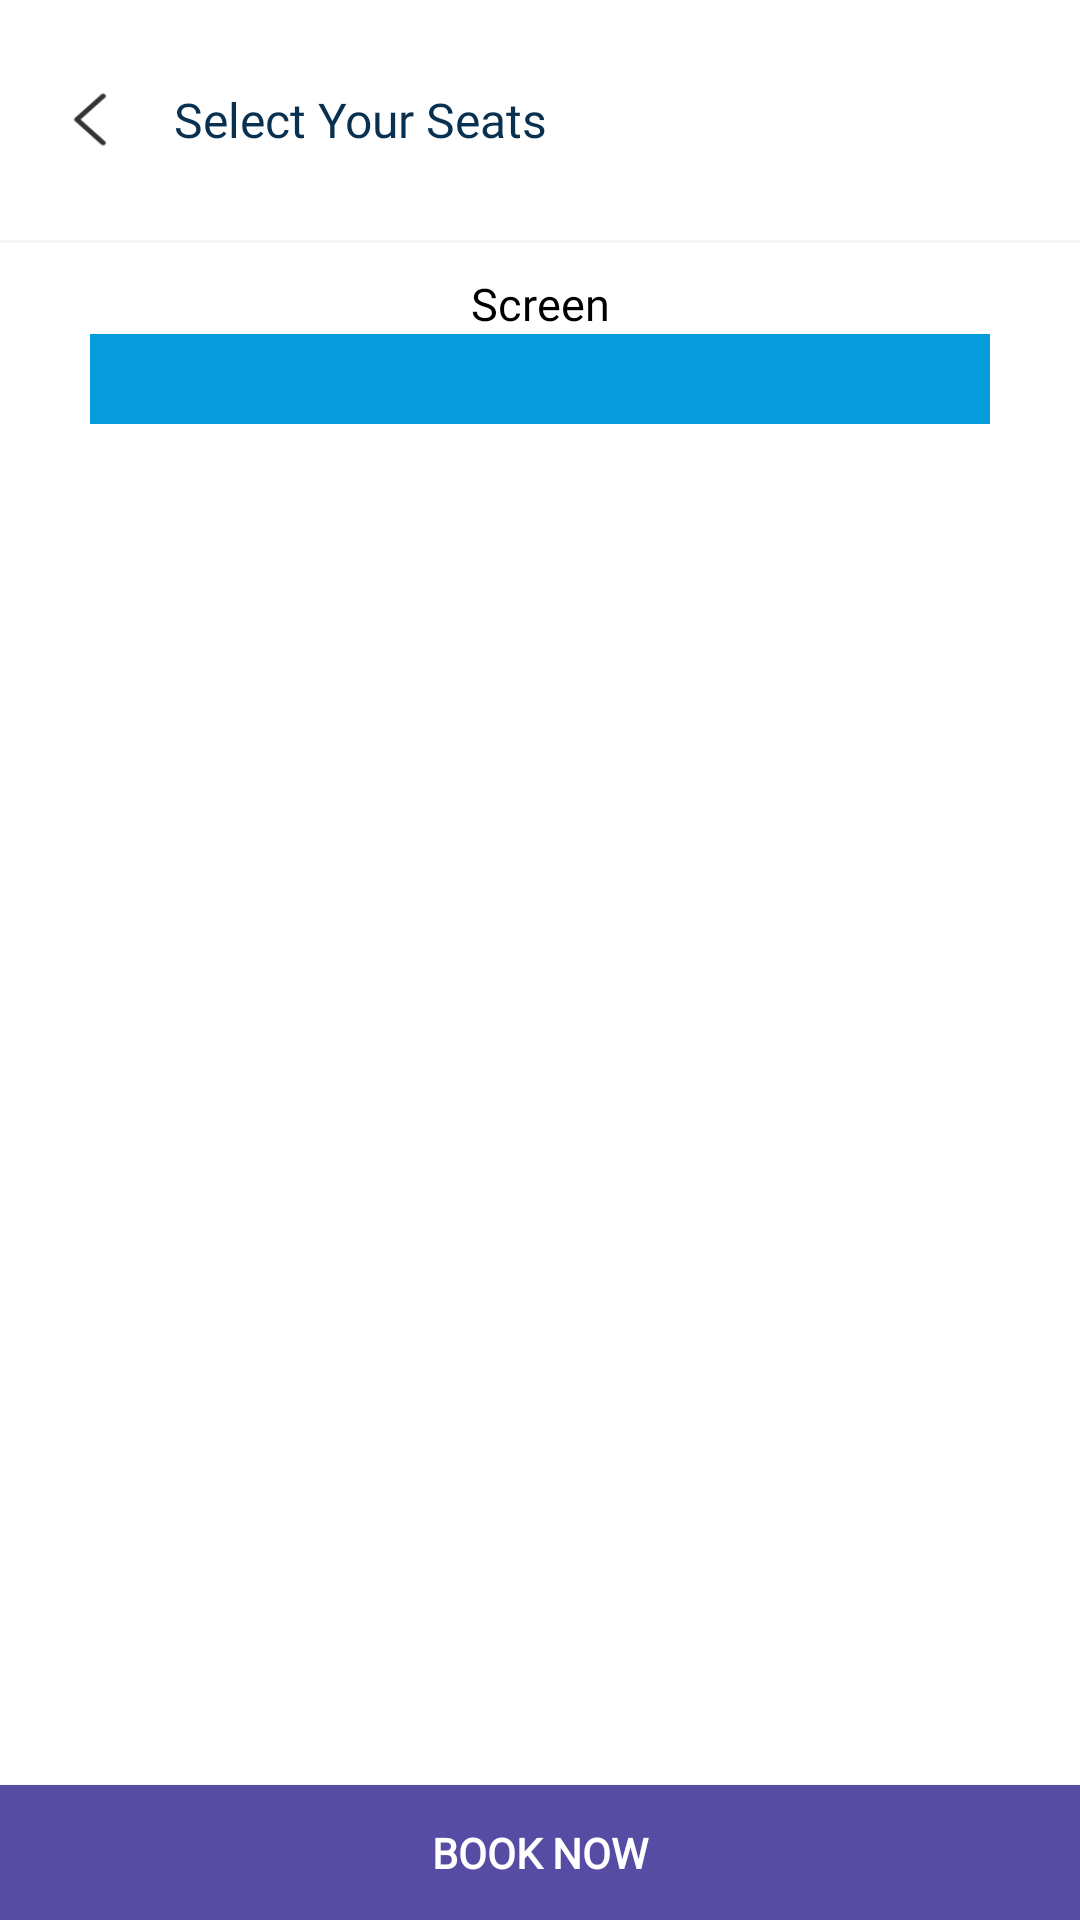

Screen size 1080px×1920px. Icon name, then its center in pixels as [x,y]:
left arrow: [90,119]
